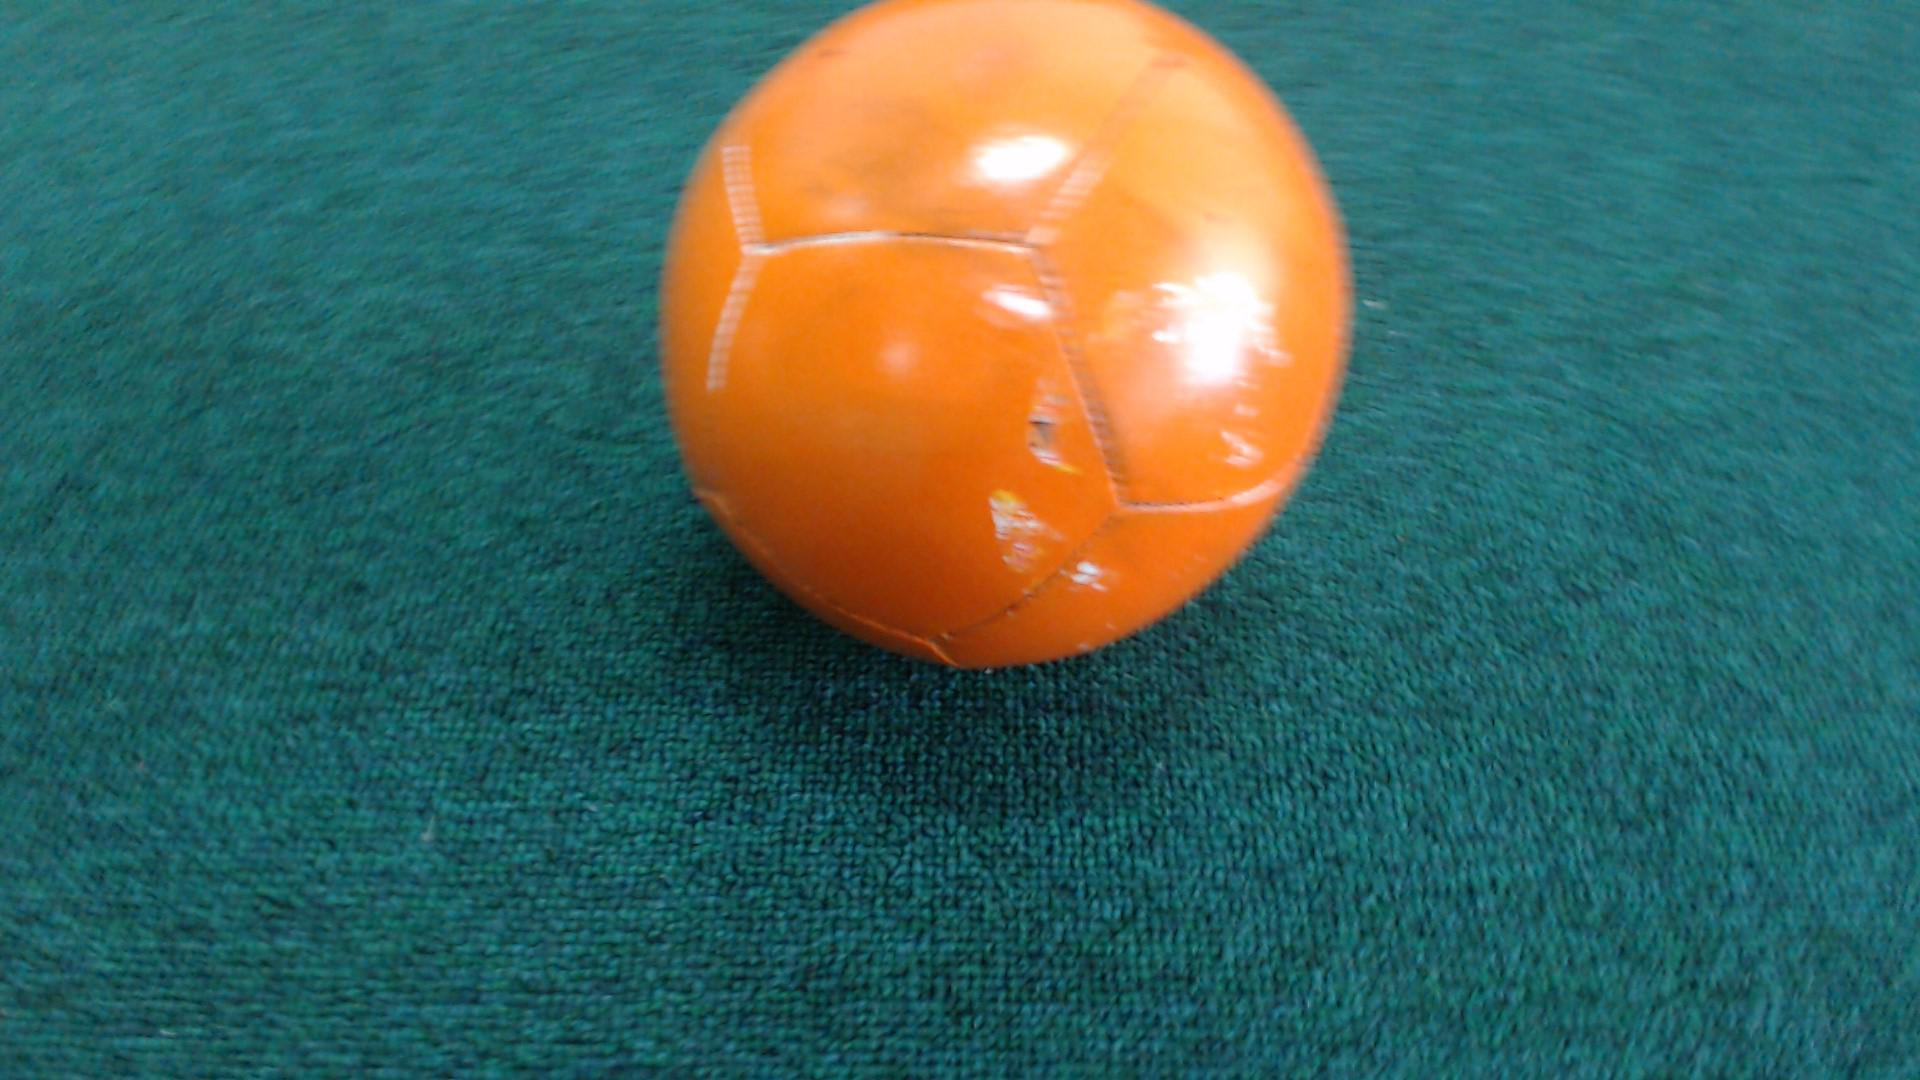bola: (588, 0, 1447, 737)
